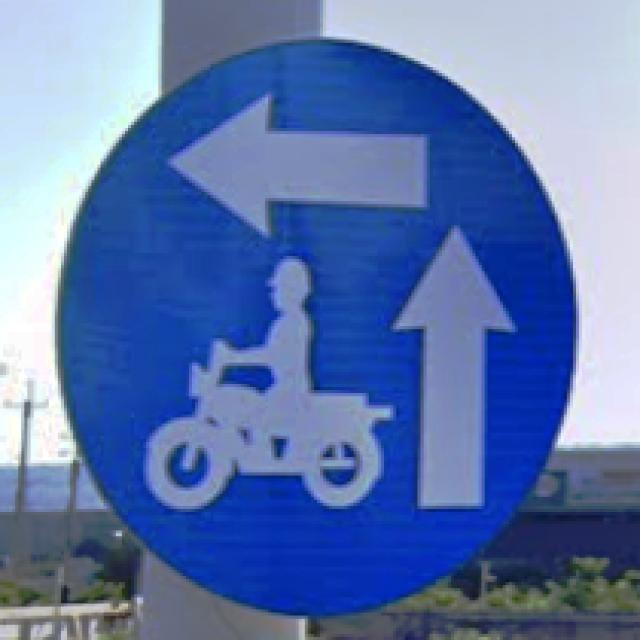twostageturn: (52, 37, 579, 622)
